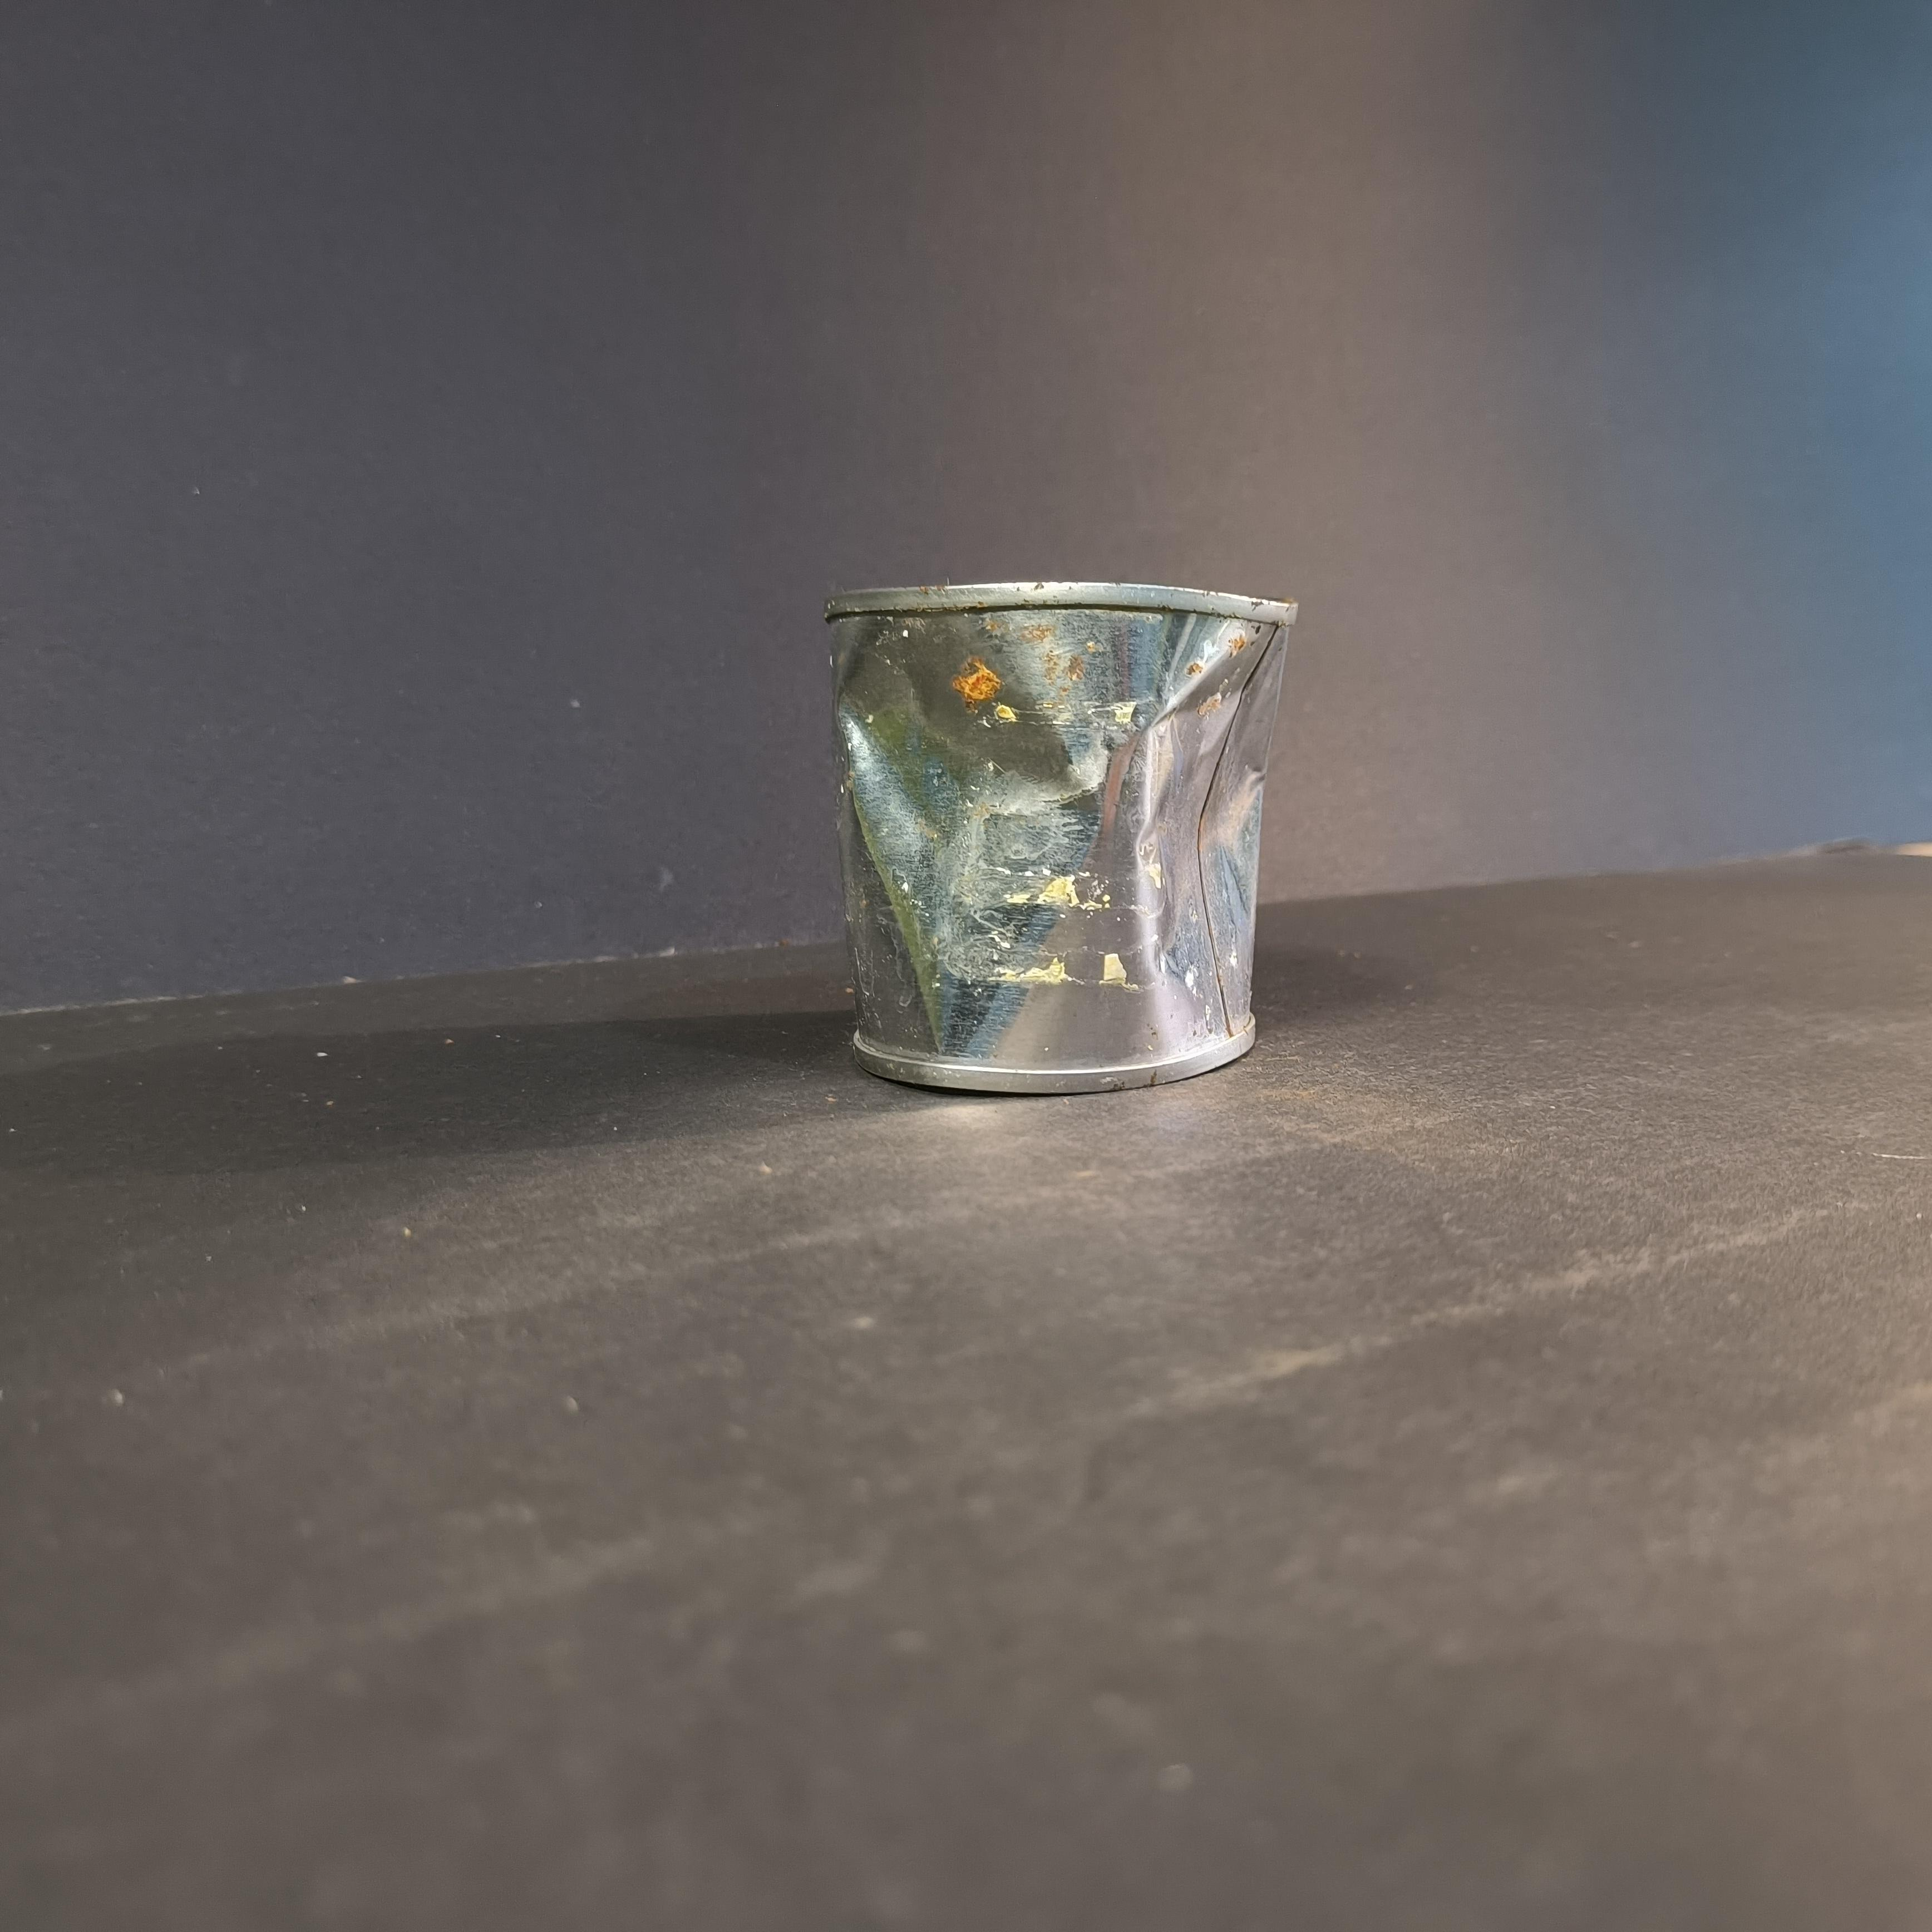Dented: (782, 564, 1322, 1090)
